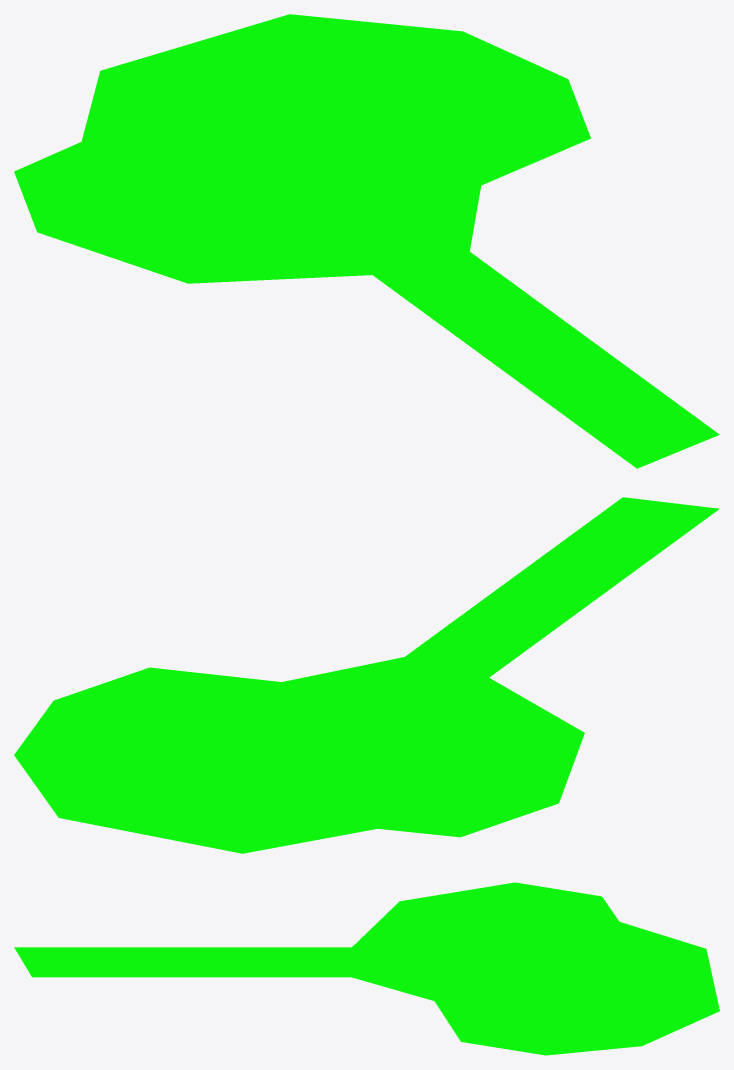
File: s01a_sa1-floor.glb
The picture shows the model from 3 angles, top to bottom: view 1: azimuth 30°, elevation 25°; view 2: azimuth 150°, elevation 25°; view 3: azimuth 270°, elevation 25°; orthographic projection. The views are drawn at different scales.
Visible parts, largest first — view 1: collision_floor-colonly; view 2: collision_floor-colonly; view 3: collision_floor-colonly.
Boxes of the visible parts, x1=… form: collision_floor-colonly: x1=14, y1=14, x2=719, y2=468; collision_floor-colonly: x1=14, y1=497, x2=719, y2=853; collision_floor-colonly: x1=14, y1=882, x2=719, y2=1055.
Bounding box in the file's own units: 34.41 × 0 × 59.32.
